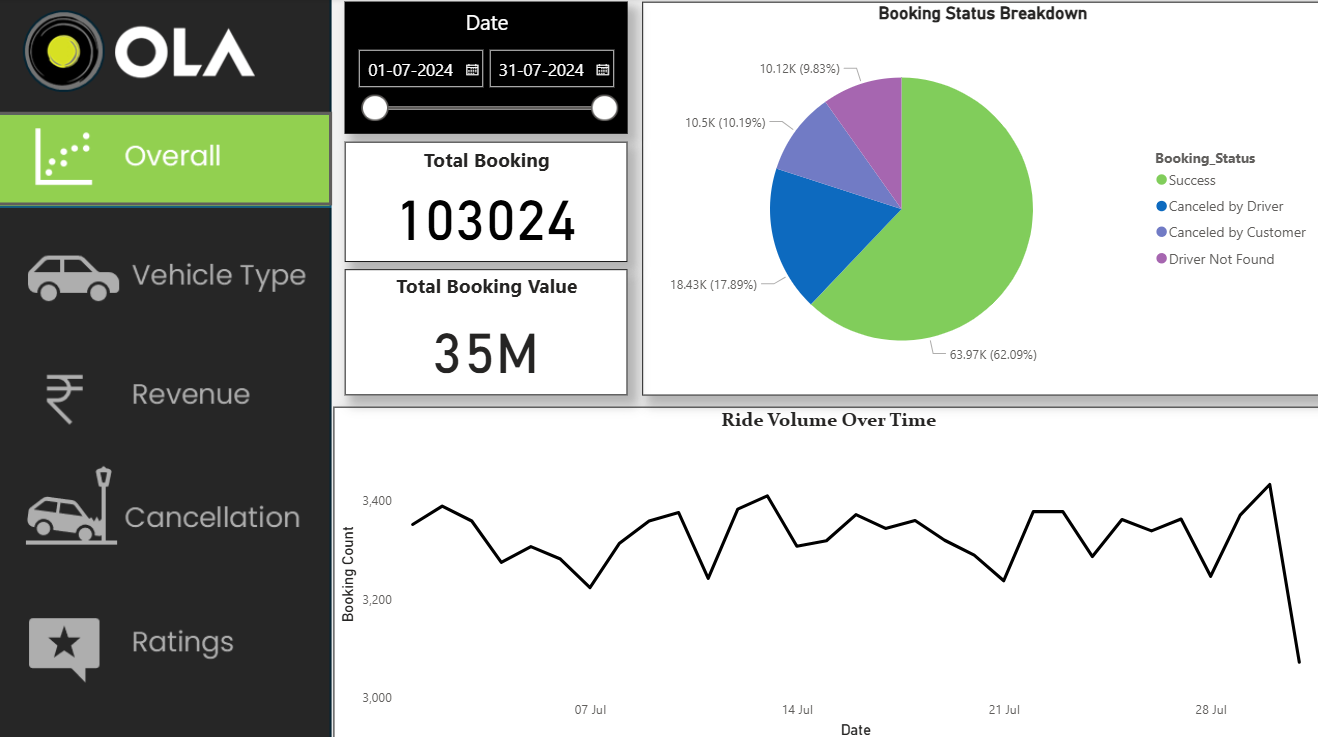

Layout of this report page (visuals, bound fields, positions):
{"tool":"powerbi","page":{"name":"Overall","canvas":[1280,720],"ordinal":0},"visuals":[{"type":"actionButton","box":[0,220.3,324.4,90.6],"z":0},{"type":"actionButton","box":[0,334.3,324.9,90.2],"z":1000},{"type":"actionButton","box":[1.6,447.7,324.9,90.2],"z":2000},{"type":"actionButton","box":[1.6,578.3,324.9,90.2],"z":3000},{"type":"actionButton","box":[0,109.5,324.4,90.6],"z":4000},{"type":"lineChart","title":"Ride Volume Over Time","fields":{"Category":["Bookings.Date.Variation.Date Hierarchy.Year","Bookings.Date.Variation.Date Hierarchy.Quarter","Bookings.Date.Variation.Date Hierarchy.Month","Bookings.Date.Variation.Date Hierarchy.Day"],"Y":["CountNonNull(Bookings.Booking_ID)"]},"box":[325.5,394.5,954.5,325.5],"z":5000},{"type":"pieChart","title":"Booking Status Breakdown","fields":{"Category":["Bookings.Booking_Status"],"Y":["CountNonNull(Bookings.Booking_Status)"]},"box":[623.2,3.5,656.2,380.2],"z":6000},{"type":"slicer","fields":{"Values":["Bookings.Date"]},"box":[336.4,3.6,272.7,127.3],"z":7000},{"type":"card","title":"Total Booking","fields":{"Values":["CountNonNull(Bookings.Booking_ID)"]},"box":[336.4,138.2,272.7,116.4],"z":8000},{"type":"card","title":"Total Booking Value","fields":{"Values":["Sum(Bookings.Booking_Value)"]},"box":[336.4,261.8,272.7,121.8],"z":9000}]}

Visuals, with their boxes in screenshot pixels (x1, y1, x2, y2), scaled from the page's 1280x720 canvas onto the 1318x737 screenshot:
actionButton: 0 226 334 318
actionButton: 0 342 335 435
actionButton: 2 458 336 551
actionButton: 2 592 336 684
actionButton: 0 112 334 205
"Ride Volume Over Time" lineChart: 335 404 1317 736
"Booking Status Breakdown" pieChart: 642 4 1317 393
slicer - Bookings.Date: 346 4 627 134
"Total Booking" card: 346 141 627 261
"Total Booking Value" card: 346 268 627 393
